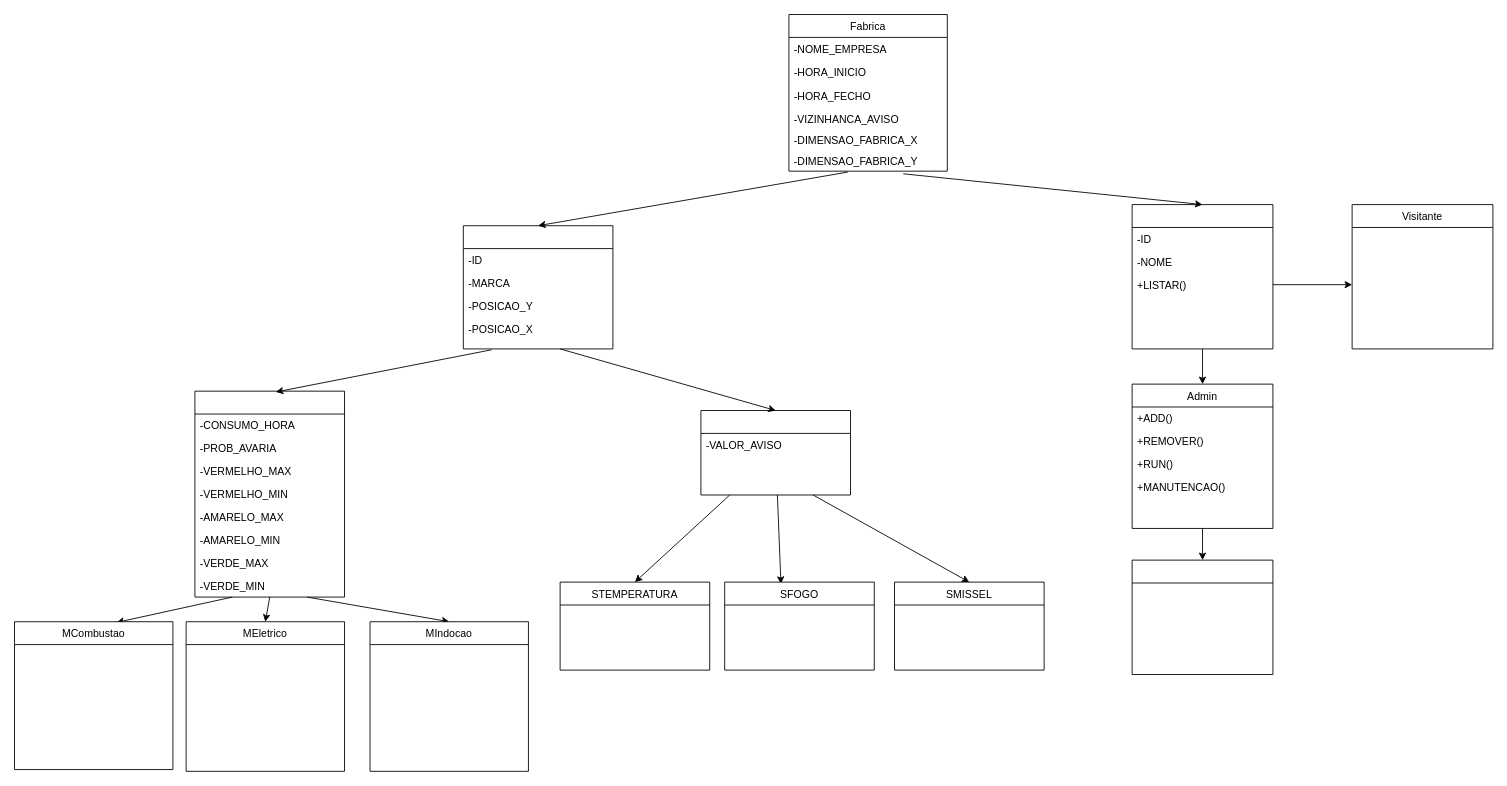
The diagram is 1507 pixels wide and 786 high, and some of its shapes have lost their labels. The shapes that lost their labels are listed below. From the top down, each one's box as (x1, y1, x2, y2) in pixels, then its label:
(462, 225, 613, 349): Objetos
(1131, 204, 1273, 349): User
(700, 410, 851, 495): Sensor
(194, 390, 345, 597): Motor
(1131, 559, 1273, 675): Normal
